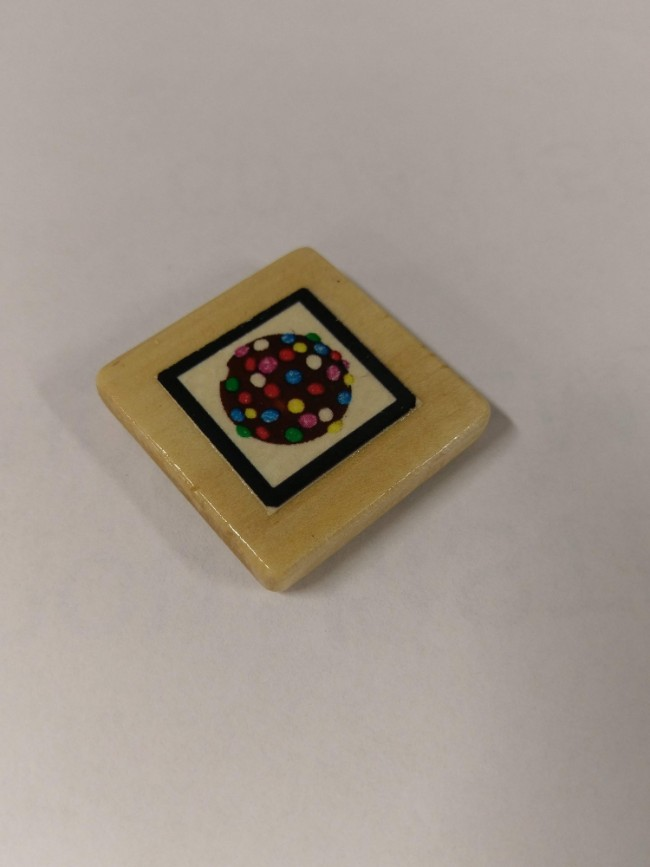cookie: (184, 300, 398, 494)
